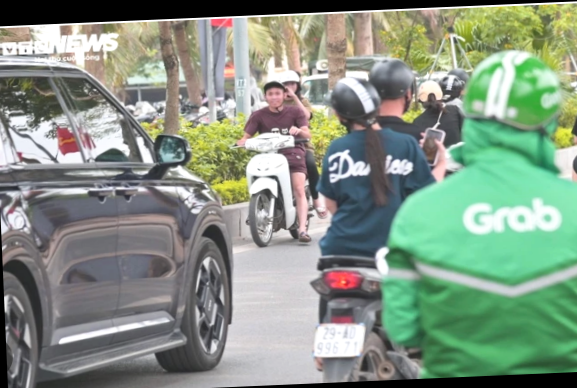Bien-so: (302, 325, 360, 371)
